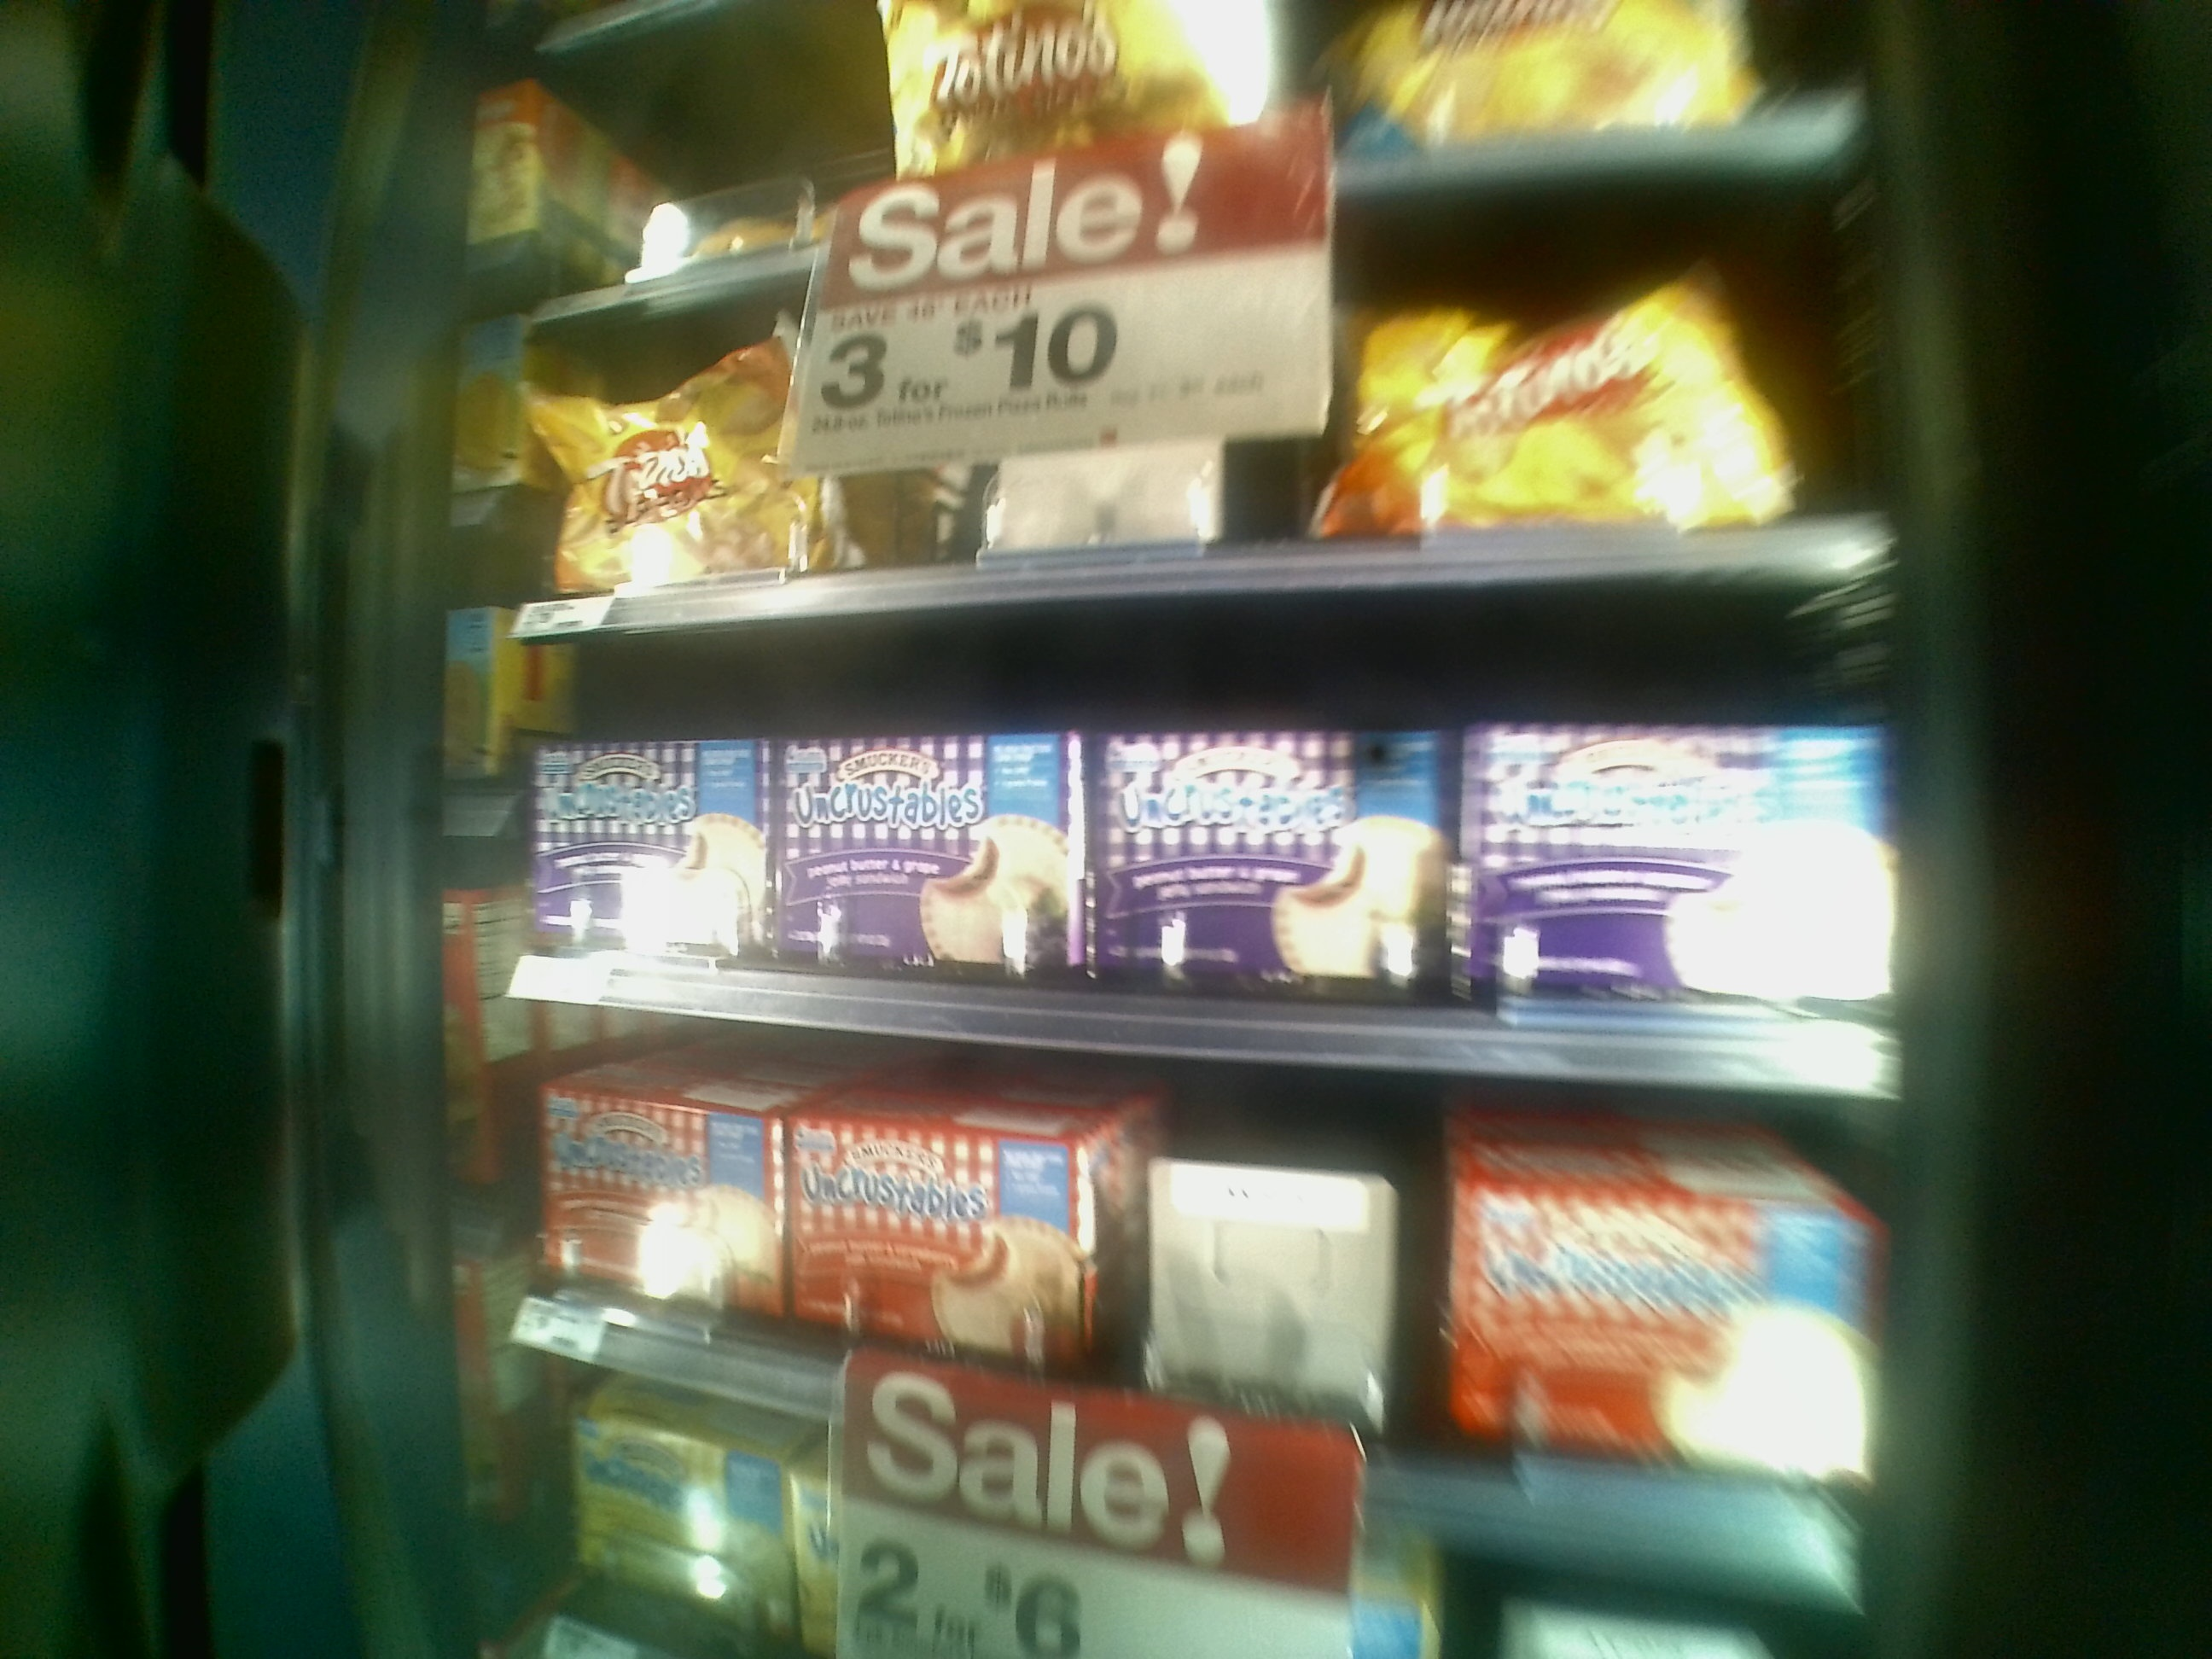shelf: (505, 993, 1865, 1593), (509, 619, 1900, 1100), (505, 246, 1860, 599)
